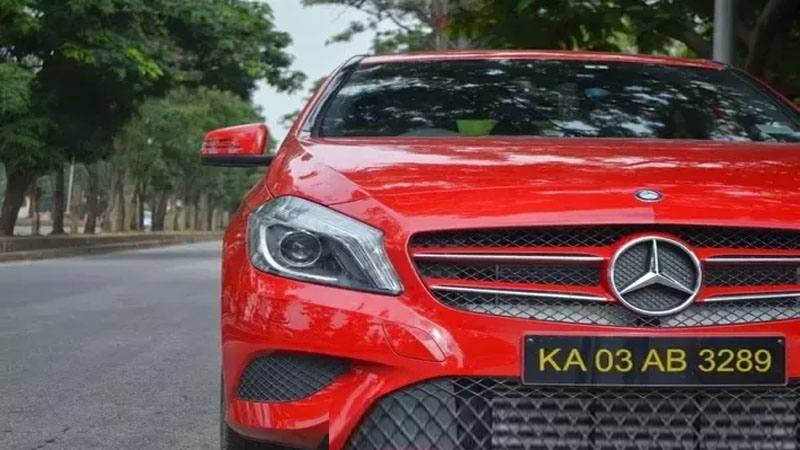plate: (522, 333, 789, 387)
